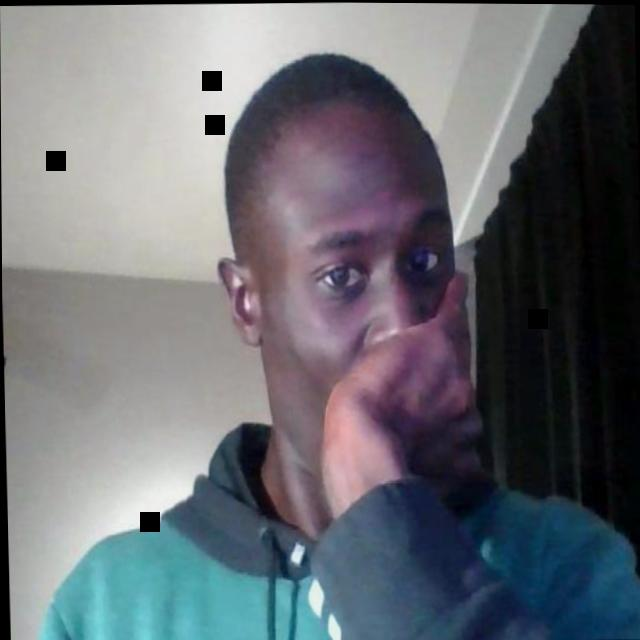NO-Mask: (248, 161, 457, 483)
